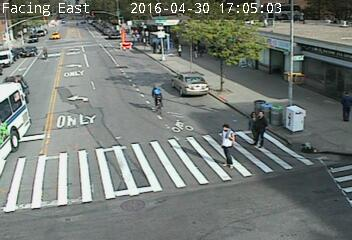neg: (143, 79, 167, 111), (92, 99, 116, 130), (297, 102, 318, 130), (128, 166, 149, 193), (172, 112, 192, 139), (52, 107, 72, 133), (14, 90, 33, 115), (295, 142, 314, 167), (15, 144, 33, 168), (36, 35, 53, 58), (286, 49, 303, 71), (196, 63, 212, 85), (217, 68, 232, 88), (253, 38, 268, 58), (216, 35, 227, 49), (123, 30, 133, 44)
pos: (210, 120, 249, 171), (251, 108, 279, 145), (244, 106, 257, 124), (174, 40, 187, 57)
